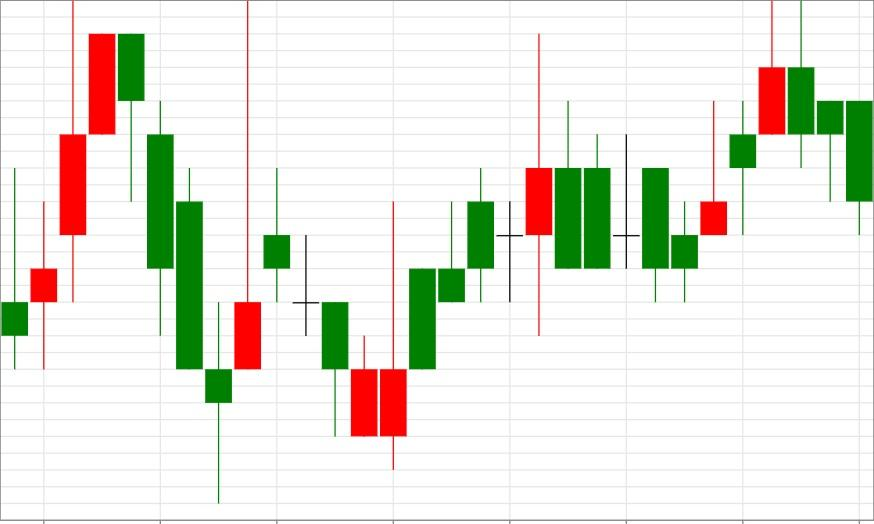inverse_hammer_rise: (263, 167, 408, 471)
